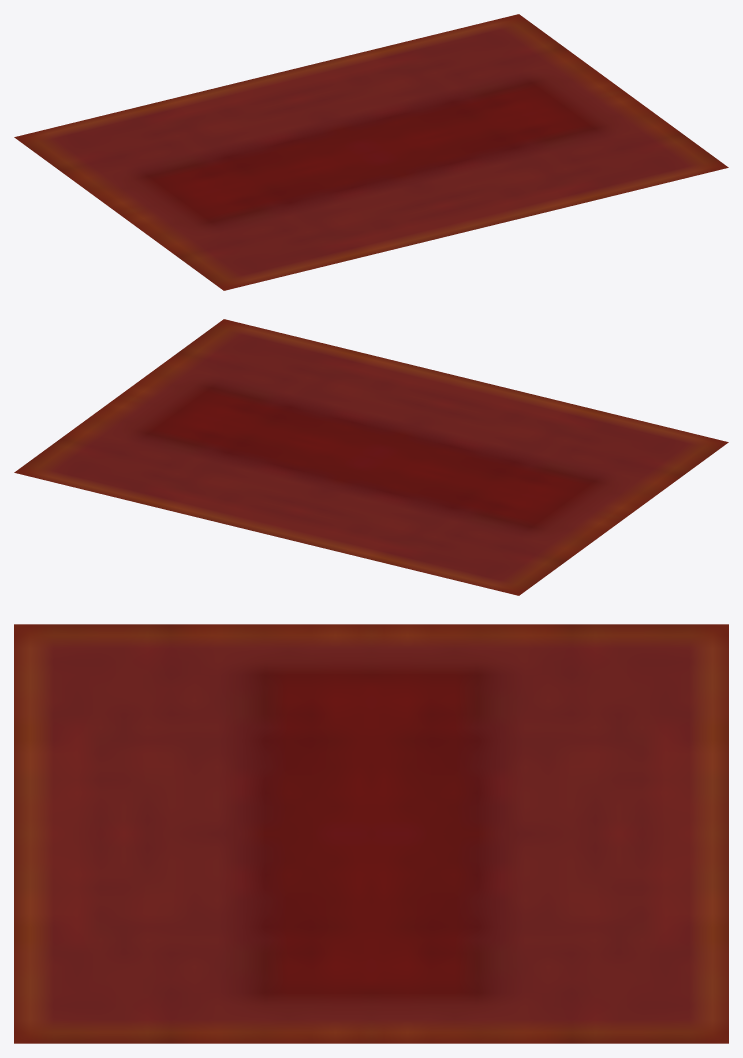
The model's file is Cover_1A.fbx.
The picture shows the model from 3 angles, top to bottom: view 1: azimuth 30°, elevation 25°; view 2: azimuth 150°, elevation 25°; view 3: azimuth 270°, elevation 25°; orthographic projection. The views are drawn at different scales.
Parts seen in each view (by area): view 1: polySurface7540; view 2: polySurface7540; view 3: polySurface7540.
Part boxes in pixels (x1,y1,x2,y2): polySurface7540: (14, 14, 728, 290); polySurface7540: (14, 319, 728, 595); polySurface7540: (14, 624, 728, 1043).
Bounding box in the file's own units: 0.9999 × 0 × 0.72.
